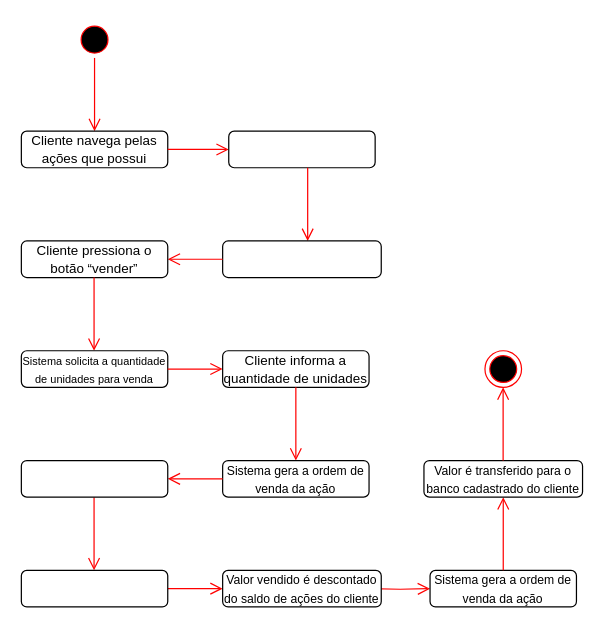
Image size: 604x628. Some labels were removed from this diagram. The shapes that lost their labels are listed below. From the top down, each one's centre as x and y in pixels, then its label:
At pixel 301 149: "Cliente seleciona a ação de interesse de venda".
At pixel 301 259: "Sistema apresenta oscilações do valor da ação".
At pixel 94 478: "Ordem entra em status de liquidação".
At pixel 94 588: "Após prazo determinado, ordem é concluída".
